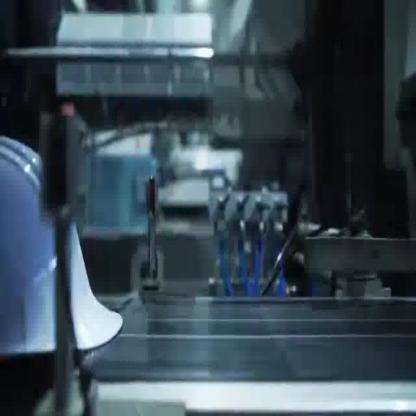helmet: (0, 134, 124, 361)
